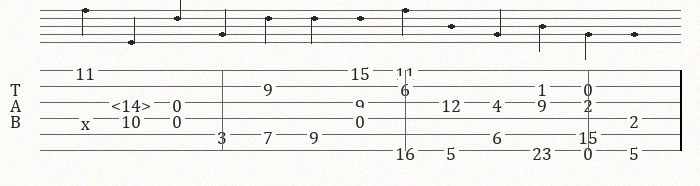0: (172, 110, 186, 126), (172, 94, 186, 110), (355, 110, 369, 126), (583, 78, 597, 94), (583, 142, 597, 158)
1: (537, 78, 551, 94)
10: (121, 110, 145, 126)
11: (75, 62, 99, 78), (395, 62, 419, 78)
12: (441, 94, 465, 110)
15: (350, 62, 374, 79), (578, 126, 602, 143)
16: (395, 142, 419, 158)
2: (583, 94, 597, 110), (629, 110, 643, 126)
23: (532, 142, 556, 158)
3: (217, 126, 231, 142)
4: (492, 94, 506, 110)
5: (446, 142, 460, 159), (629, 142, 643, 159)
6: (400, 78, 414, 94), (492, 126, 506, 142)
7: (263, 126, 277, 143)
9: (263, 78, 277, 94), (309, 126, 323, 142), (355, 94, 369, 110), (537, 94, 551, 110)
harmonic: (111, 94, 155, 110)
x: (81, 112, 94, 125)
